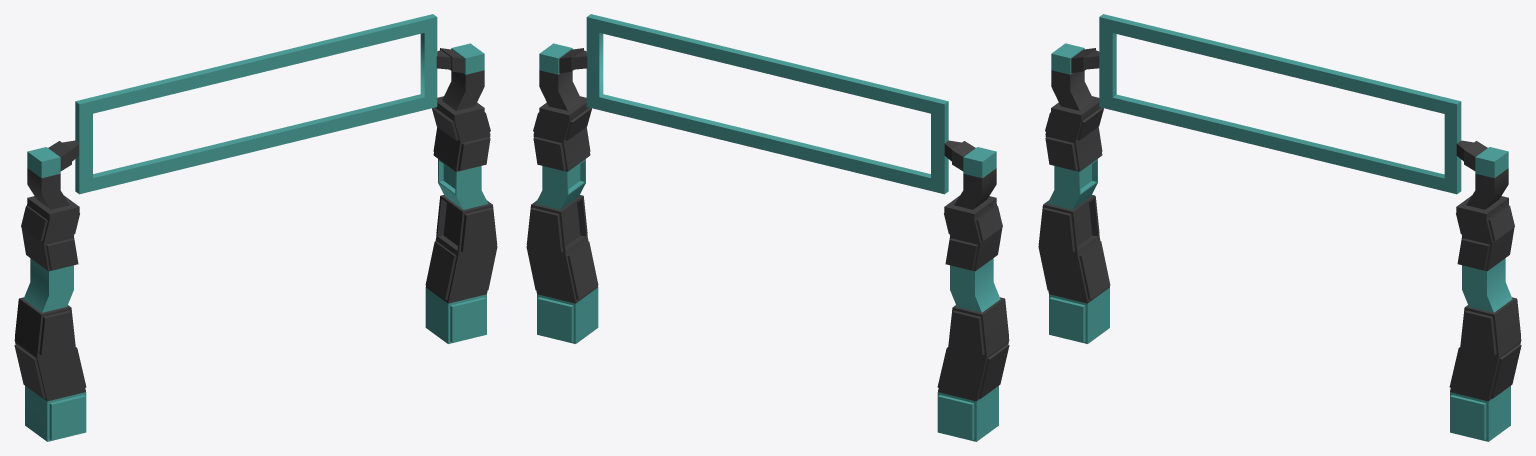
The model's file is Meta.fbx.
3 views of the same model, side by side, from view 1: azimuth 30°, elevation 25°; view 2: azimuth 150°, elevation 25°; view 3: azimuth 330°, elevation 25° (orthographic).
Parts seen in each view (by area): view 1: pCube4, pCube1, pCube3; view 2: pCube4, pCube1, pCube3; view 3: pCube1, pCube4, pCube3.
Boxes of the visible parts, x1=… form: pCube4: x1=425, y1=43, x2=497, y2=343; pCube1: x1=14, y1=140, x2=86, y2=441; pCube3: x1=75, y1=14, x2=437, y2=194; pCube4: x1=526, y1=43, x2=598, y2=343; pCube1: x1=937, y1=140, x2=1009, y2=441; pCube3: x1=586, y1=14, x2=948, y2=194; pCube1: x1=1038, y1=43, x2=1110, y2=343; pCube4: x1=1449, y1=140, x2=1521, y2=441; pCube3: x1=1099, y1=14, x2=1461, y2=194.
Bounding box in the file's own units: 0.2422 × 0.1603 × 0.024.
